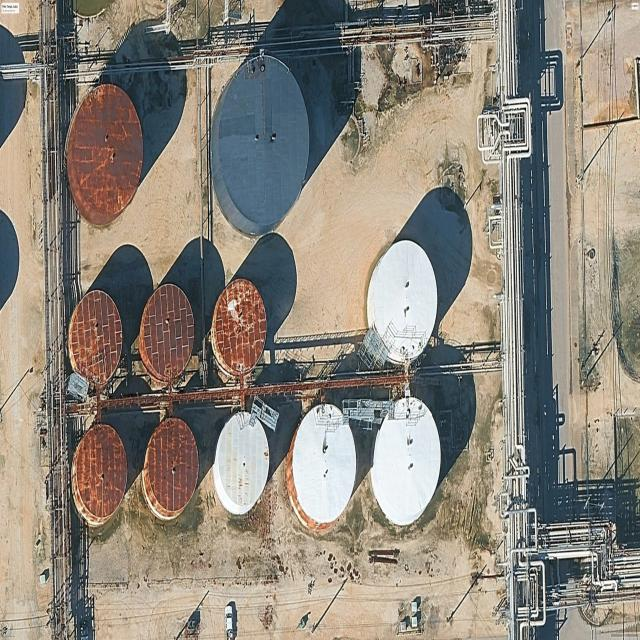Oil Rafinery: (210, 56, 309, 235), (66, 84, 143, 226), (370, 396, 441, 525), (286, 404, 356, 531), (367, 240, 438, 363), (212, 411, 270, 515), (142, 417, 199, 520), (72, 423, 128, 527), (211, 278, 267, 378), (139, 284, 194, 384), (67, 290, 123, 386)
